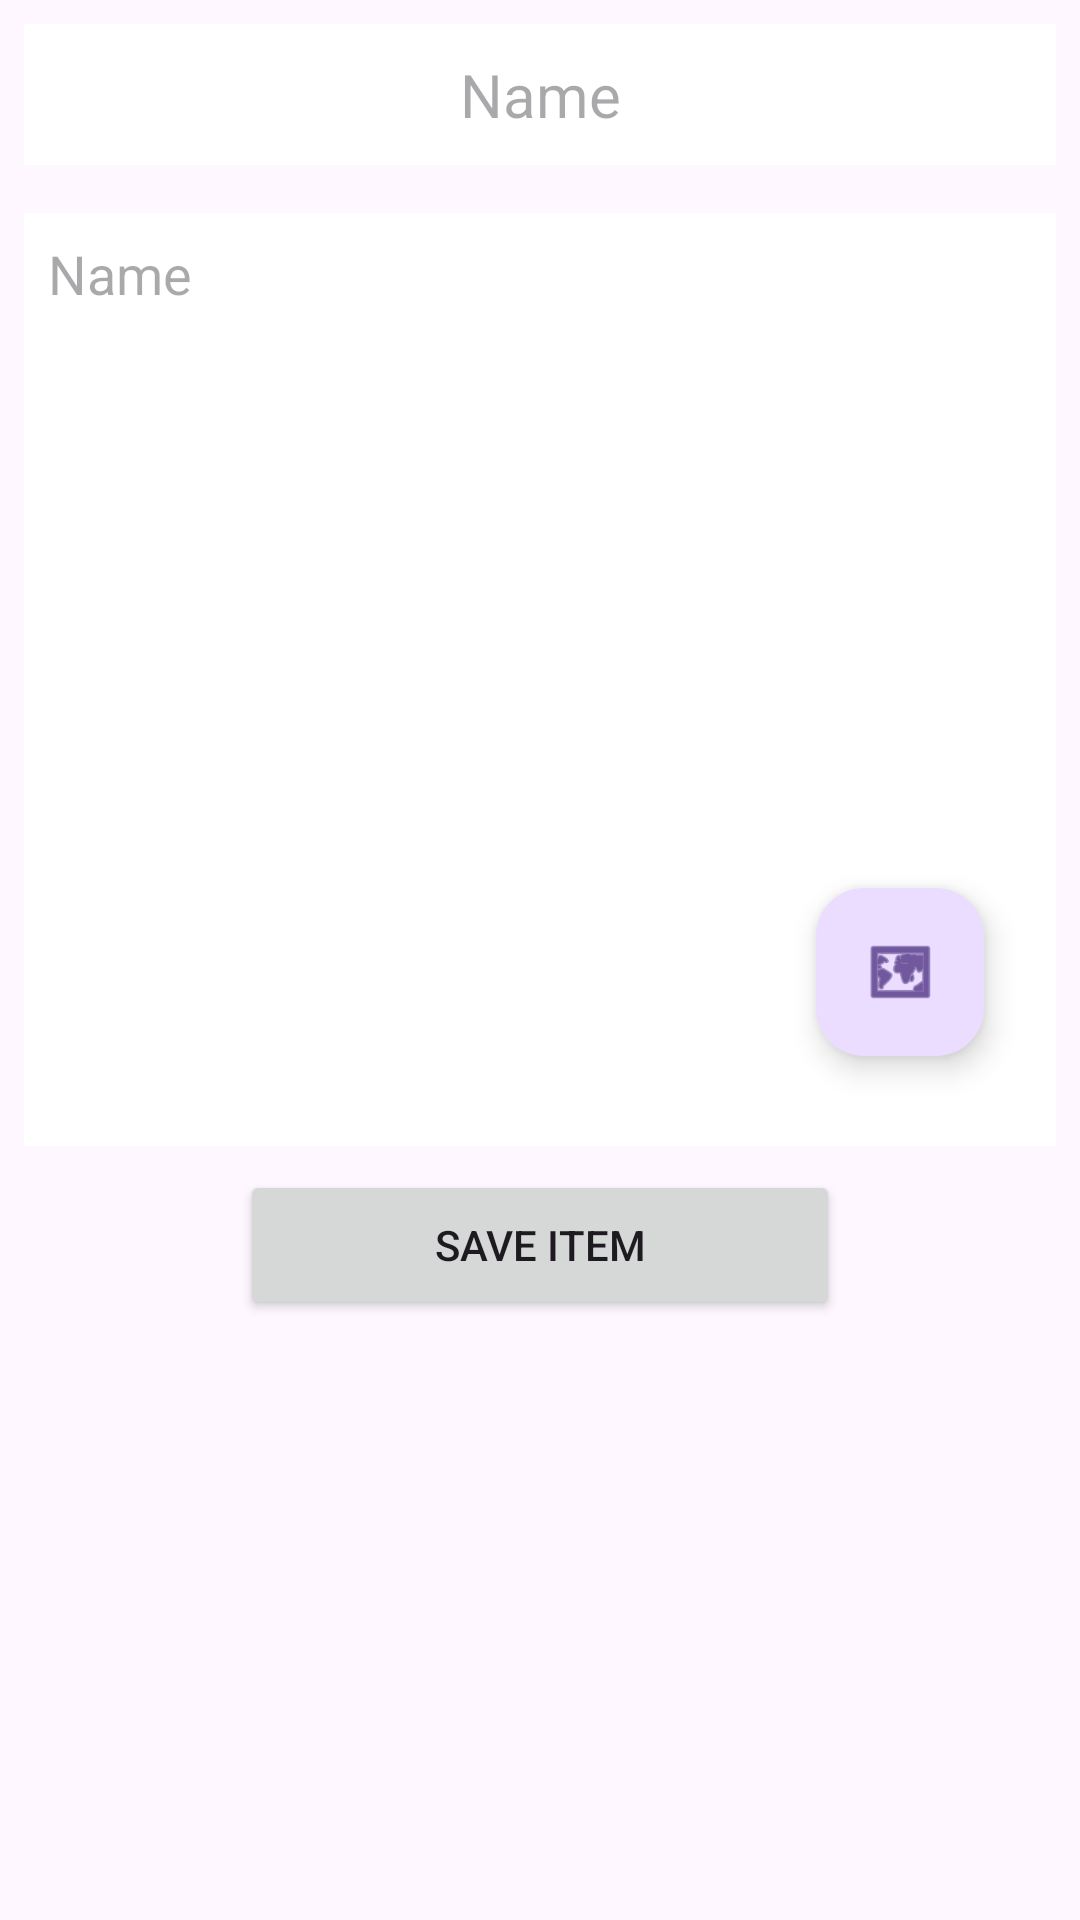

Icons on this 1080 × 1920 Android screen, each with the point to tap as (x=x, y=y):
mapmode: (x=900, y=972)
